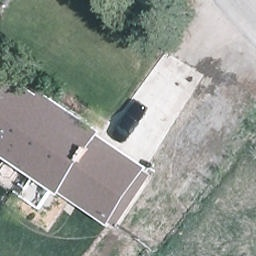car: (110, 99, 149, 145)
